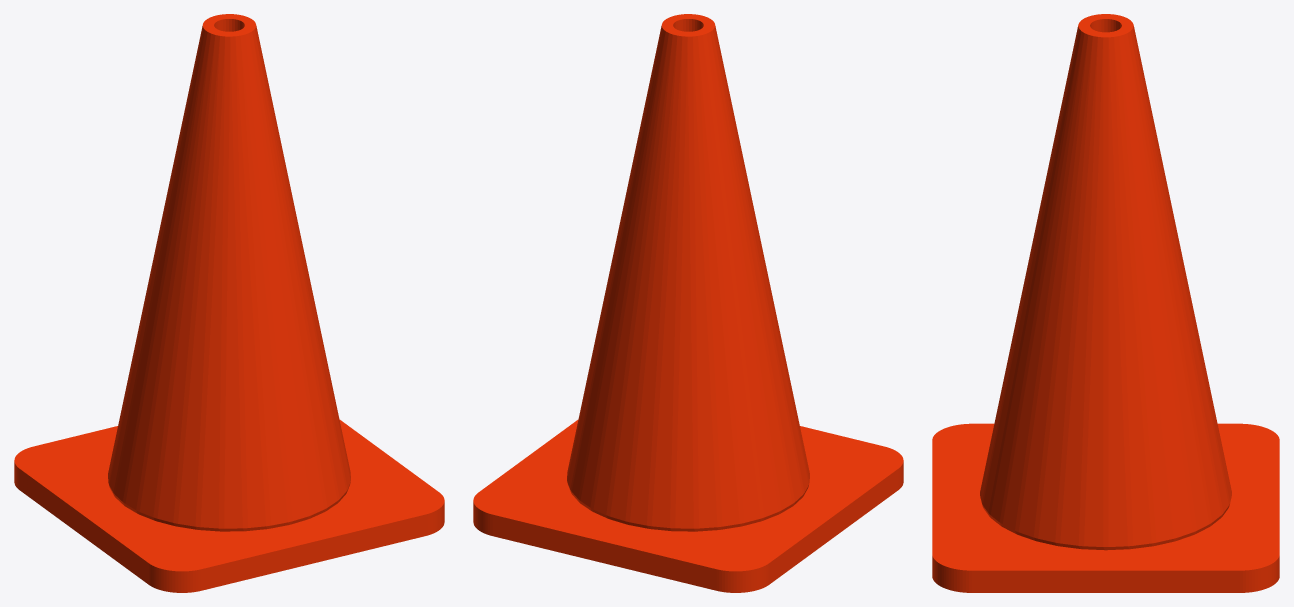
The model's file is traffic_cone.obj.
3 views of the same model, side by side, from view 1: azimuth 30°, elevation 25°; view 2: azimuth 150°, elevation 25°; view 3: azimuth 270°, elevation 25° (orthographic). The views are drawn at different scales.
Visible parts, largest first — view 1: Cone; view 2: Cone; view 3: Cone.
Part boxes in pixels (x1,y1,x2,y2): Cone: (14, 14, 444, 592); Cone: (473, 14, 903, 592); Cone: (932, 14, 1279, 592).
Bounding box in the file's own units: 0.2373 × 0.3721 × 0.2373.
